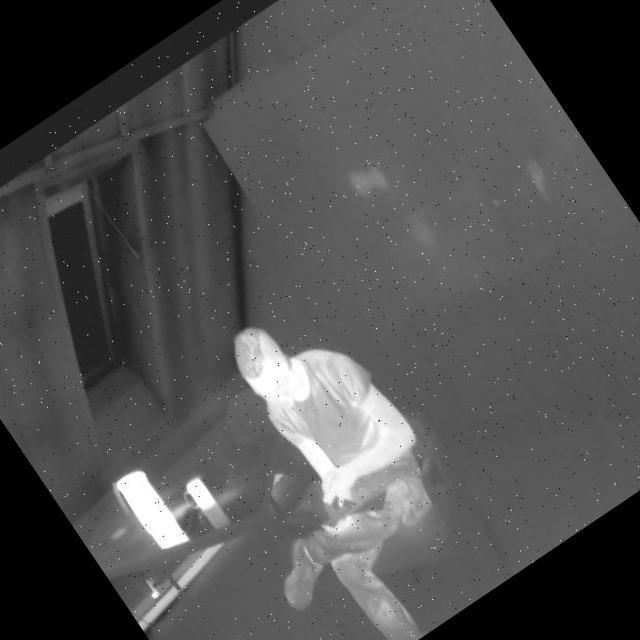person: (142, 278, 514, 640)
